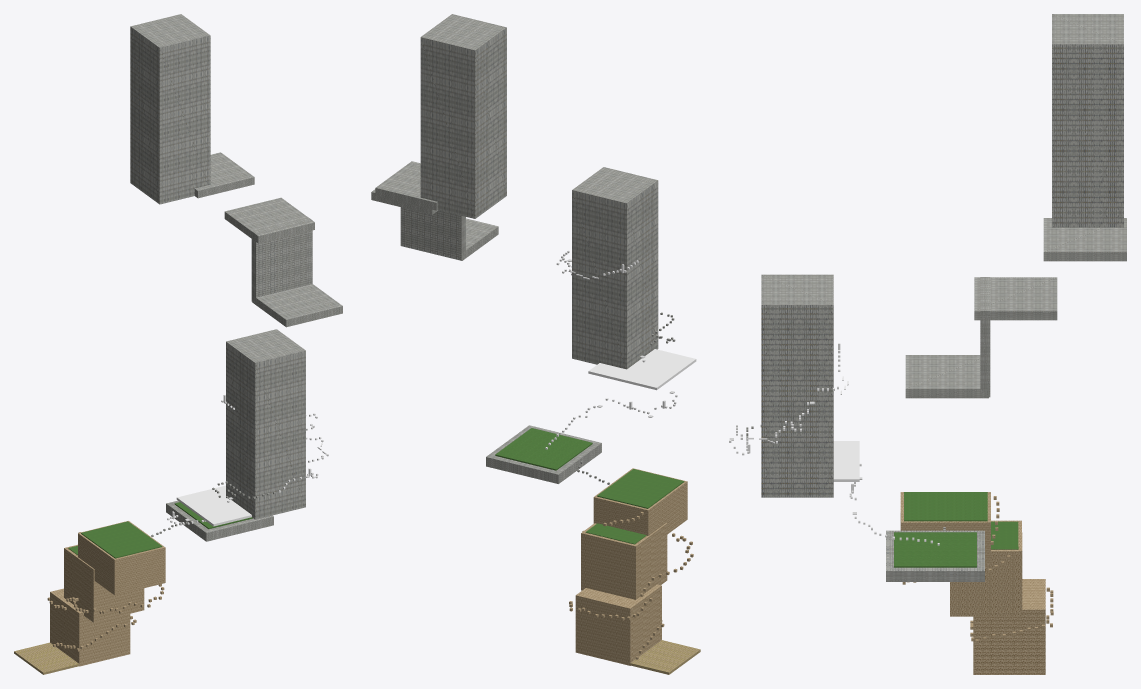
File: world.glb
3 renders of one model, left to right at view 1: azimuth 30°, elevation 25°; view 2: azimuth 150°, elevation 25°; view 3: azimuth 270°, elevation 25°, orthographic. The views are drawn at different scales.
Visible parts, largest first — view 1: Cube.080, Cube.051, Cube.012, Cube.058, Cube.010, Cube.011, Cube.078, Cube.052, cube.001, Cube.048, Cube.081, Cube.082 (+1 smaller); view 2: Cube.080, Cube.051, Cube.012, Cube.011, Cube.010, Cube.058, Cube.079, Cube.048, Cube.082, cube.001, Cube.081, Cube.046 (+2 smaller); view 3: Cube.051, Cube.080, Cube.012, Cube.011, Cube.052, Cube.078, Cube.081, Cube.079, cube.001, Cube.082, Cube.010, Cube.058 (+2 smaller).
Boxes of the visible parts, box(x1,y1,x2,y2) form: Cube.080: box(130, 14, 210, 204); Cube.051: box(226, 329, 305, 519); Cube.012: box(50, 588, 130, 666); Cube.058: box(251, 217, 312, 304); Cube.010: box(78, 521, 165, 595); Cube.011: box(64, 544, 144, 622); Cube.078: box(224, 197, 314, 243); Cube.052: box(252, 284, 342, 327); cube.001: box(81, 521, 162, 558); Cube.048: box(176, 485, 251, 526); Cube.081: box(194, 152, 254, 198); Cube.082: box(166, 500, 273, 541); Cube.080: box(420, 14, 506, 218); Cube.051: box(572, 167, 658, 369); Cube.012: box(575, 584, 661, 665); Cube.011: box(581, 523, 667, 599); Cube.010: box(593, 468, 687, 535); Cube.058: box(400, 207, 465, 260); Cube.079: box(495, 428, 592, 470); Cube.048: box(588, 349, 696, 390); Cube.082: box(486, 425, 601, 483); cube.001: box(597, 469, 684, 508); Cube.081: box(375, 161, 437, 210); Cube.046: box(630, 640, 700, 674); Cube.051: box(761, 274, 833, 497); Cube.080: box(1052, 14, 1123, 227); Cube.012: box(973, 579, 1045, 674); Cube.011: box(950, 520, 1022, 616); Cube.052: box(905, 355, 988, 398); Cube.078: box(974, 277, 1057, 320); Cube.081: box(1043, 218, 1126, 261); Cube.079: box(894, 532, 976, 567); cube.001: box(904, 492, 987, 521); Cube.082: box(886, 530, 984, 581); Cube.010: box(900, 492, 990, 565); Cube.058: box(980, 277, 990, 397).
Size of what is drawn, in the model's own units: 257 by 512 by 265.
112 materials, 7 textured.
